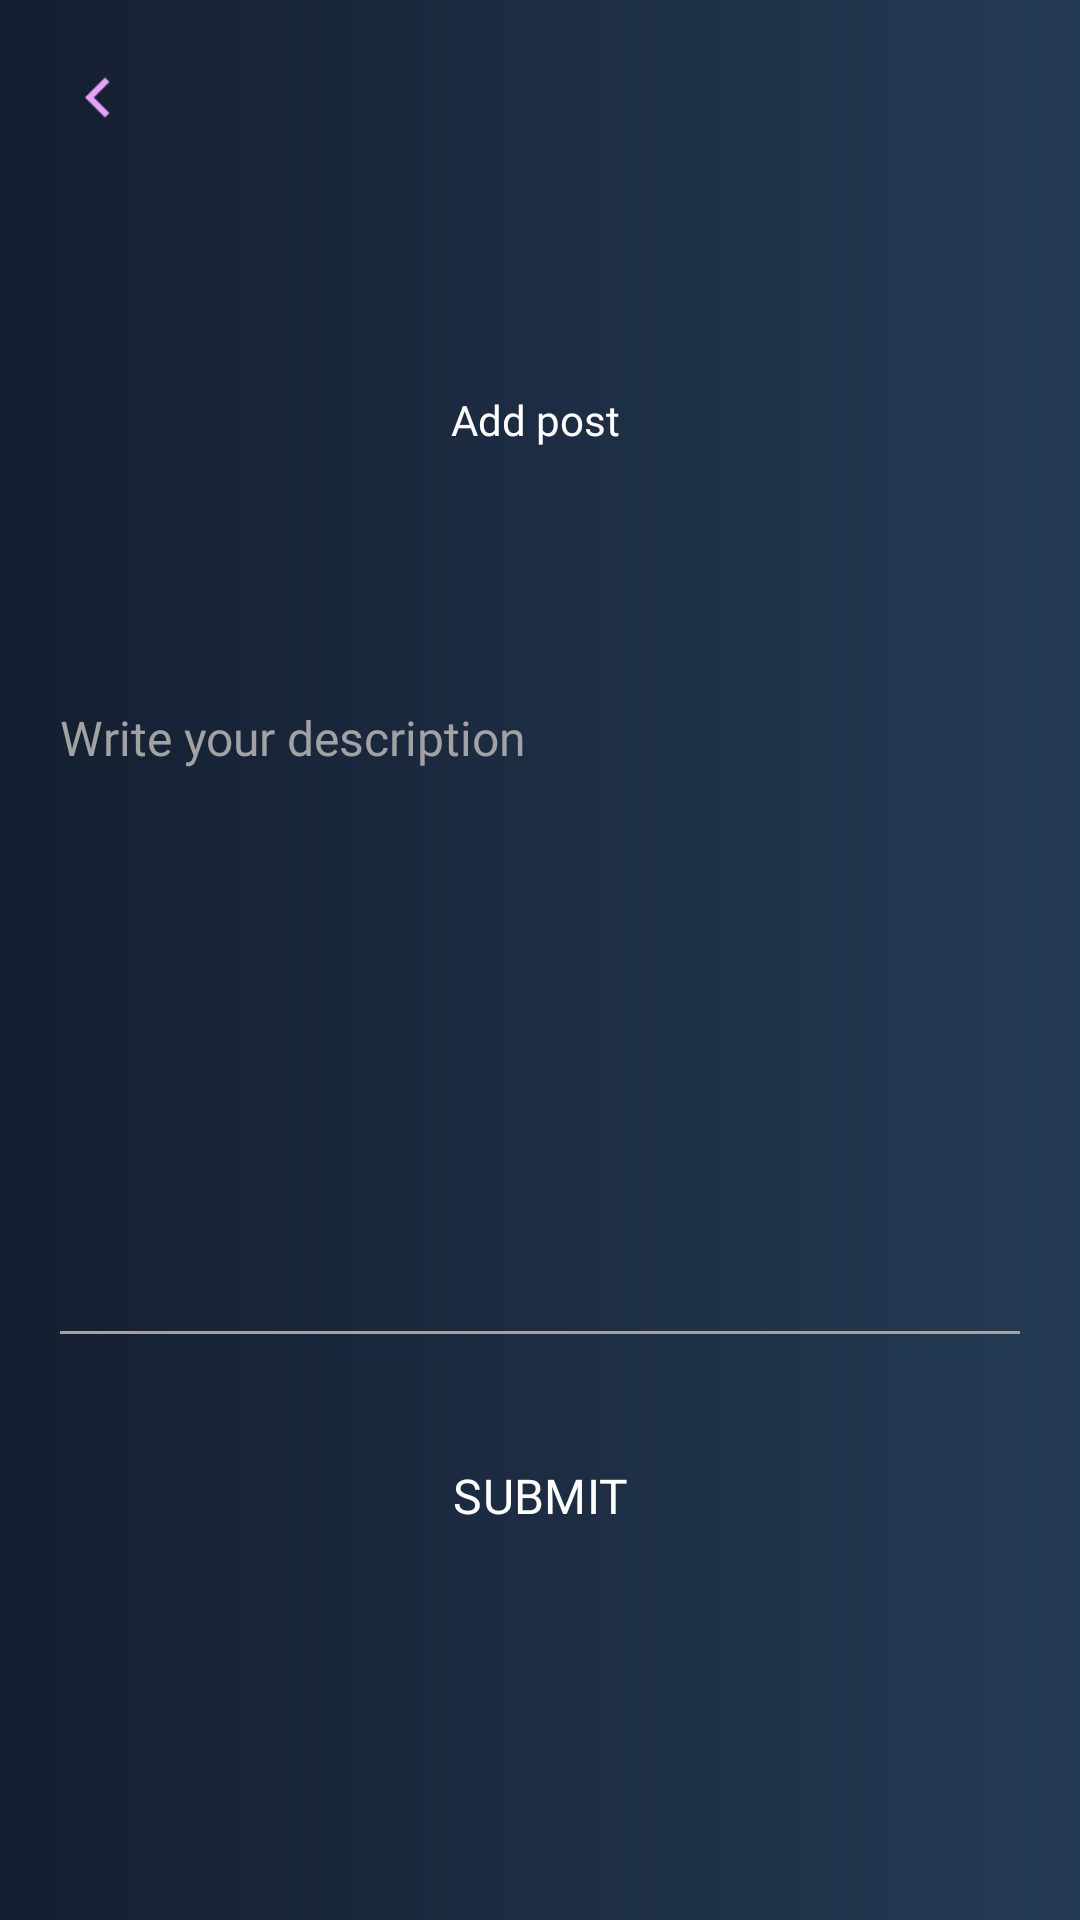

Point at icon controls on the screen. Image size 1080px x 1920px, points as point (x, y).
back: point (97, 97)
